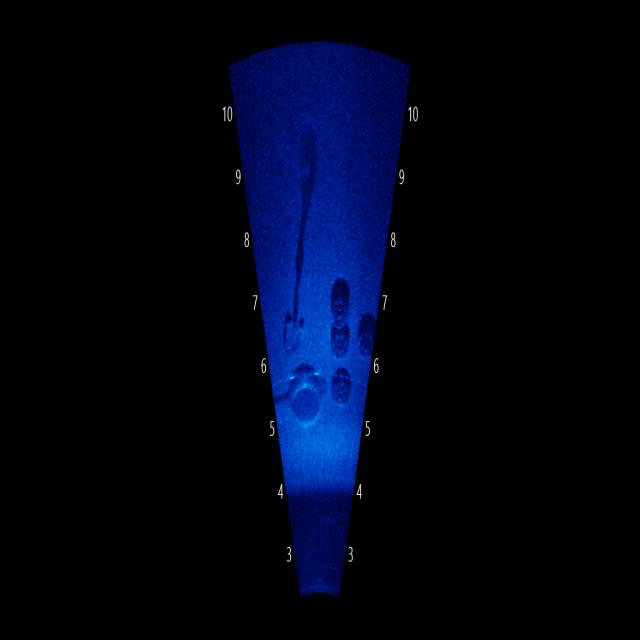circle: (283, 358, 334, 434), (324, 313, 354, 369), (352, 308, 382, 363), (326, 363, 360, 411), (325, 276, 355, 327)
